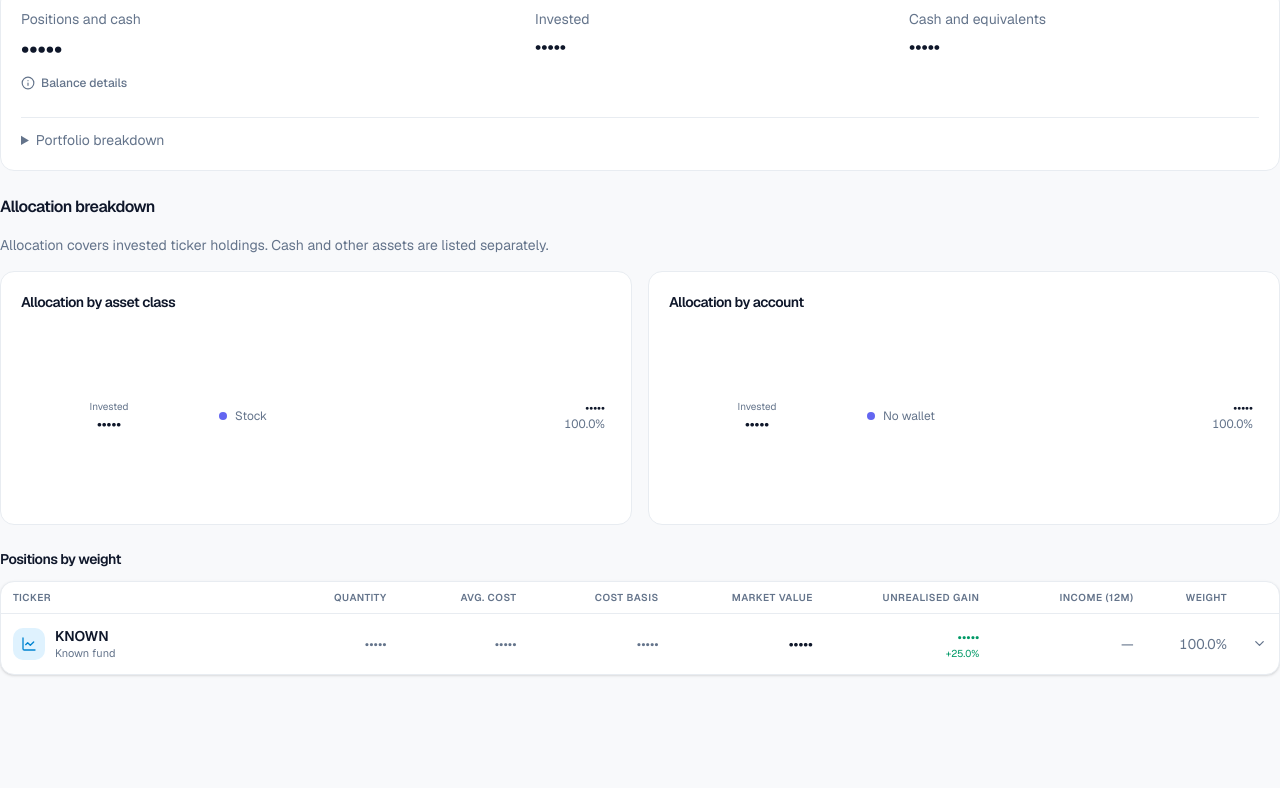
Test case: keeps unavailable quantity separate from zero and masks exact quantities in privacy mode
The width and height of the screenshot is (1280, 788).
Click the button "KNOWN".
click(640, 644)  # box [1, 614, 1279, 674]
(page scrolled)
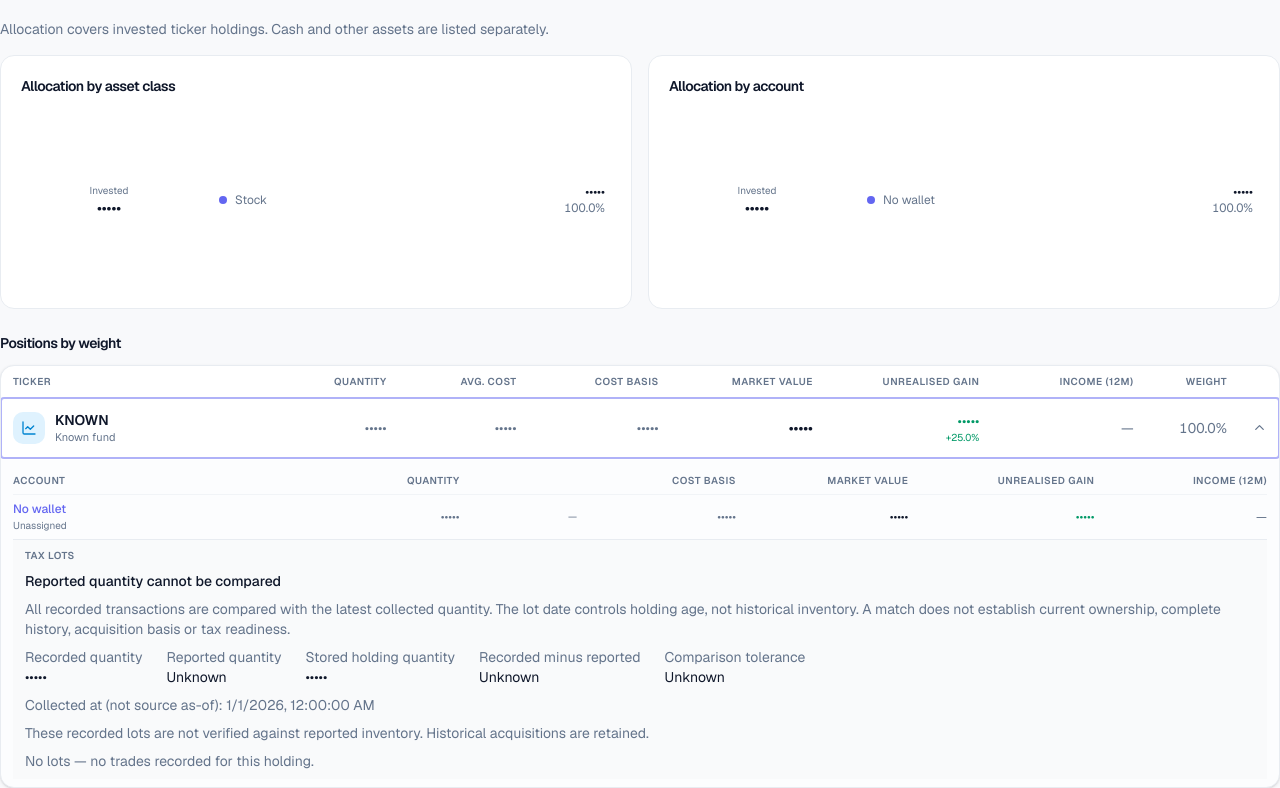
Check: the text "Reported quantity cannot be compared" is shown, box [25, 572, 281, 590]
Check: the 1st text "Unknown" is shown, box [166, 668, 227, 686]
Check: the text "•••••" below "Stored holding quantity" is shown, box [306, 668, 327, 686]
